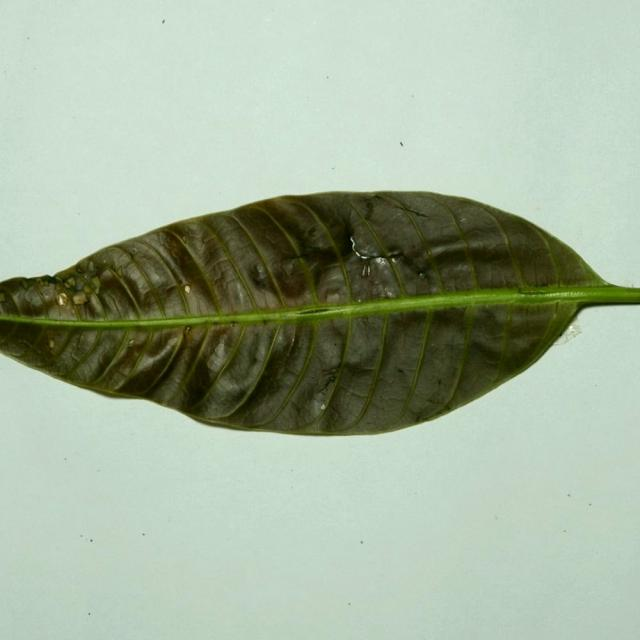Anthracnose: (194, 342, 270, 412), (101, 330, 164, 392), (346, 238, 402, 303), (335, 314, 394, 373), (346, 208, 395, 261), (157, 232, 204, 280), (312, 263, 361, 309), (301, 370, 339, 420), (434, 254, 483, 290), (313, 392, 356, 432), (272, 260, 312, 301), (295, 220, 341, 252), (94, 265, 132, 301), (159, 281, 201, 313), (203, 335, 233, 377), (393, 250, 431, 281), (338, 376, 381, 400), (19, 281, 49, 311), (47, 324, 69, 356), (395, 201, 431, 218), (250, 265, 271, 287), (361, 199, 377, 223), (321, 364, 341, 383), (231, 280, 245, 305), (304, 227, 320, 241), (361, 262, 371, 277), (220, 396, 231, 407), (414, 412, 423, 423), (208, 318, 219, 327), (444, 404, 453, 412), (262, 318, 269, 325)
Mango: (0, 191, 639, 440)
